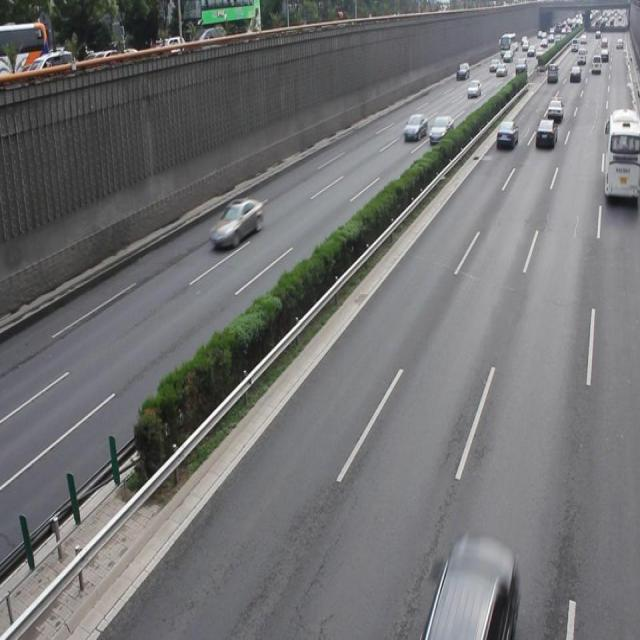car: (209, 197, 262, 247)
van: (603, 110, 640, 198)
